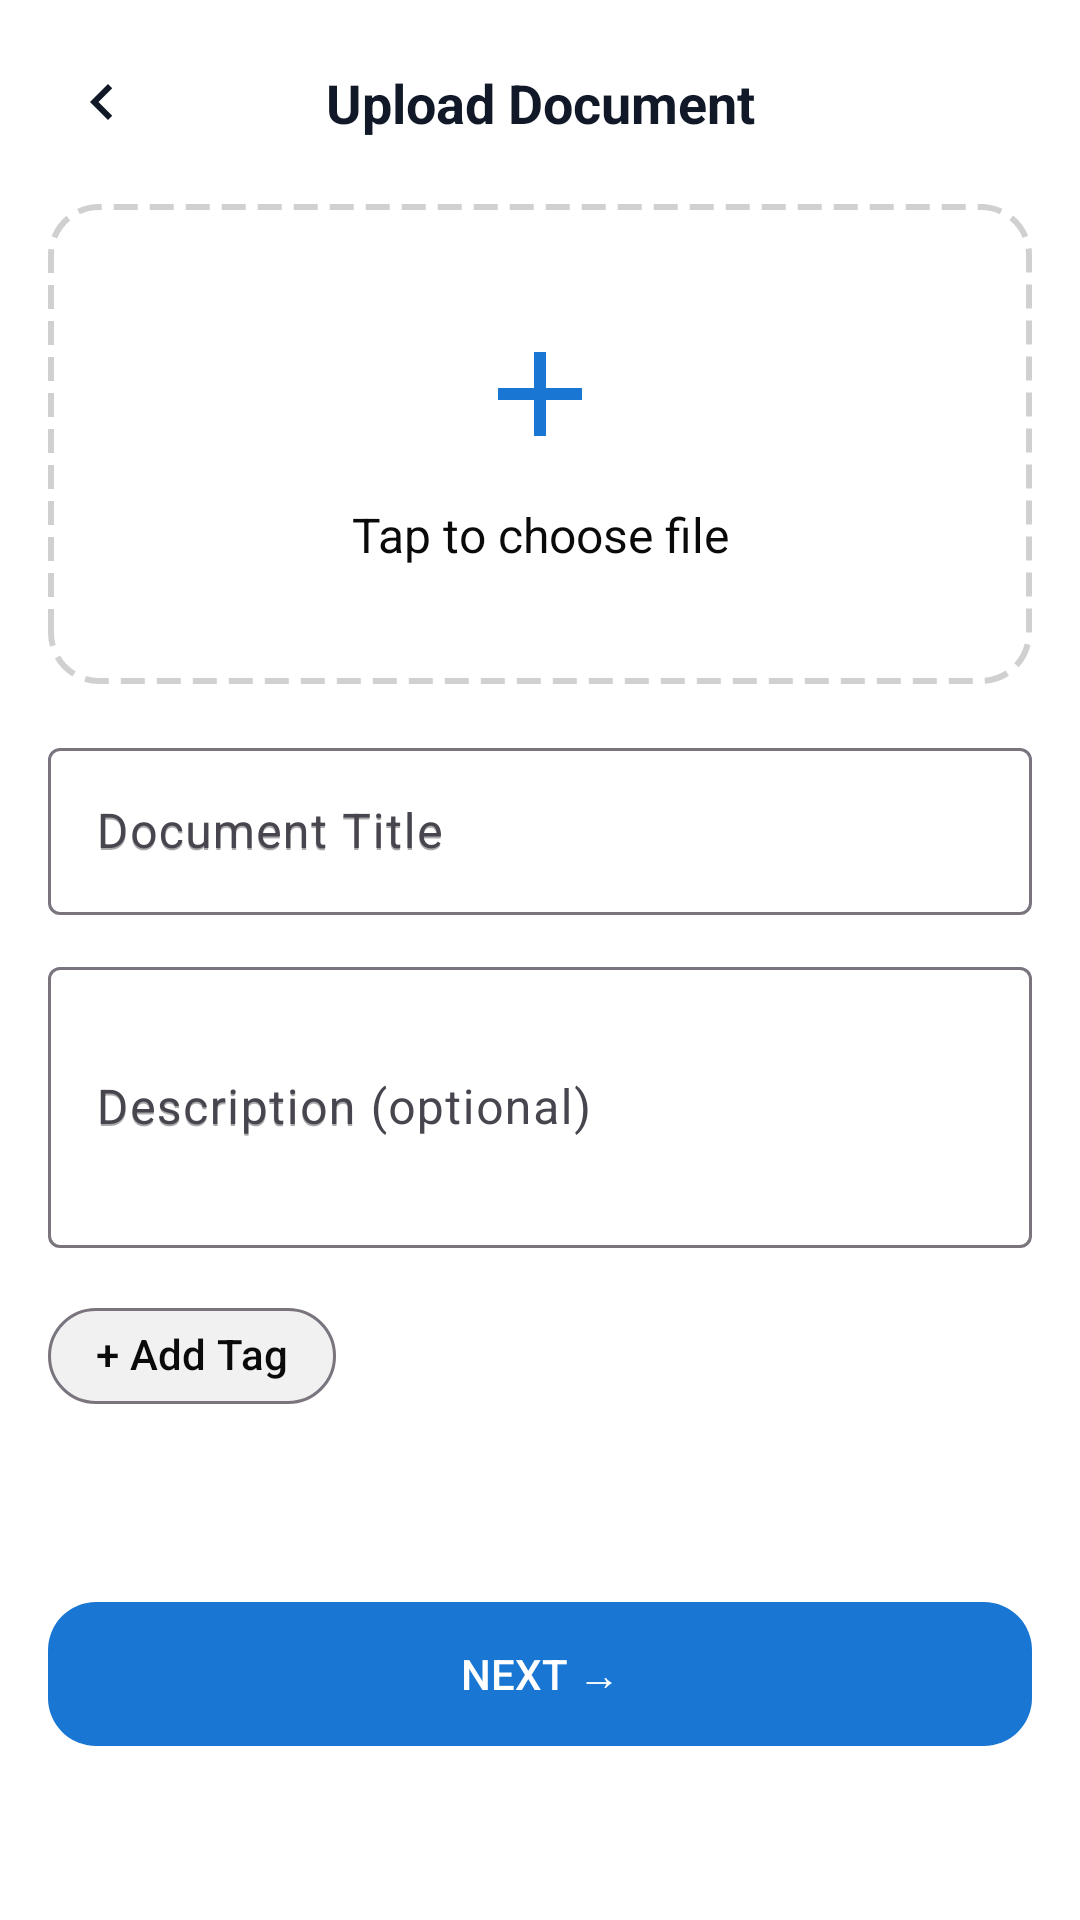

Screen size 1080*1920. Icon name, then its box in pixels as BBox(x1, y1, x2, y2):
Add: BBox(498, 352, 582, 436)
Back: BBox(90, 84, 112, 120)
